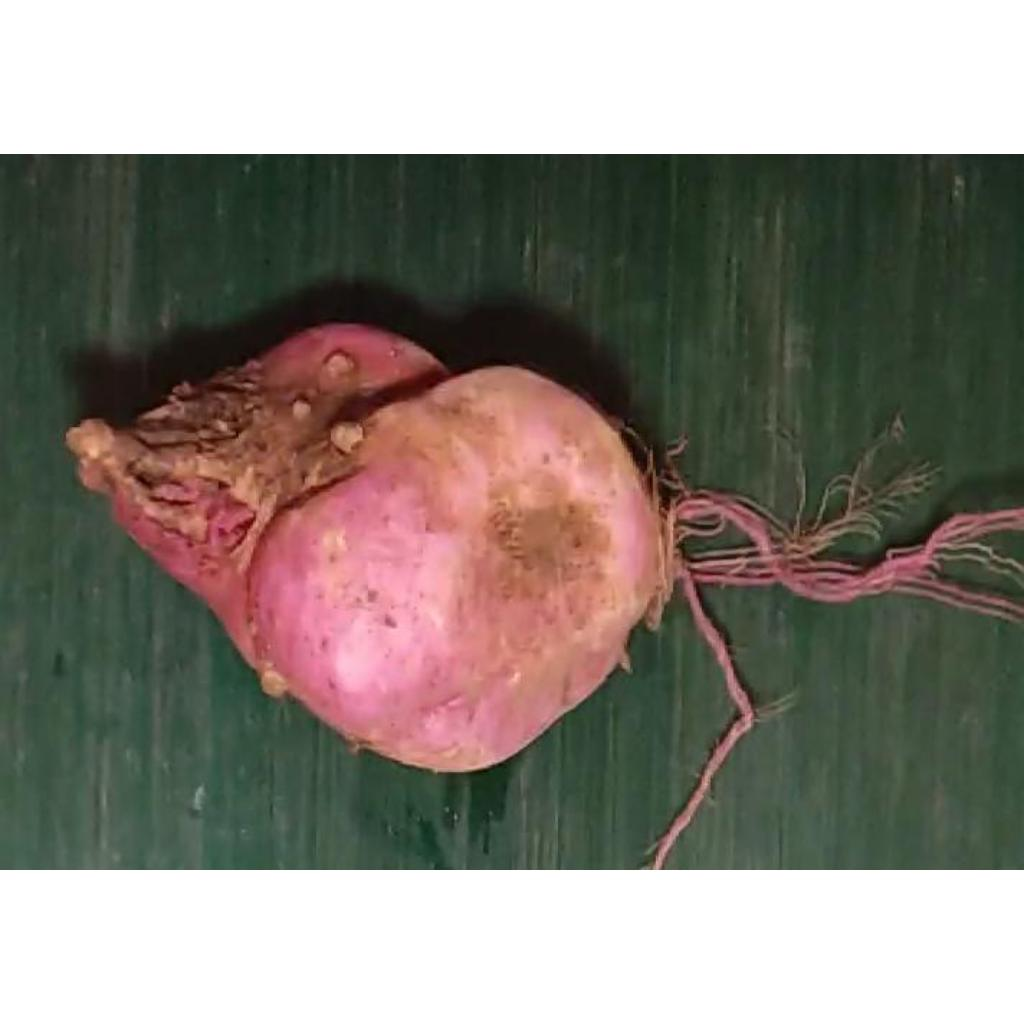Sweet Potato: (62, 320, 682, 777)
